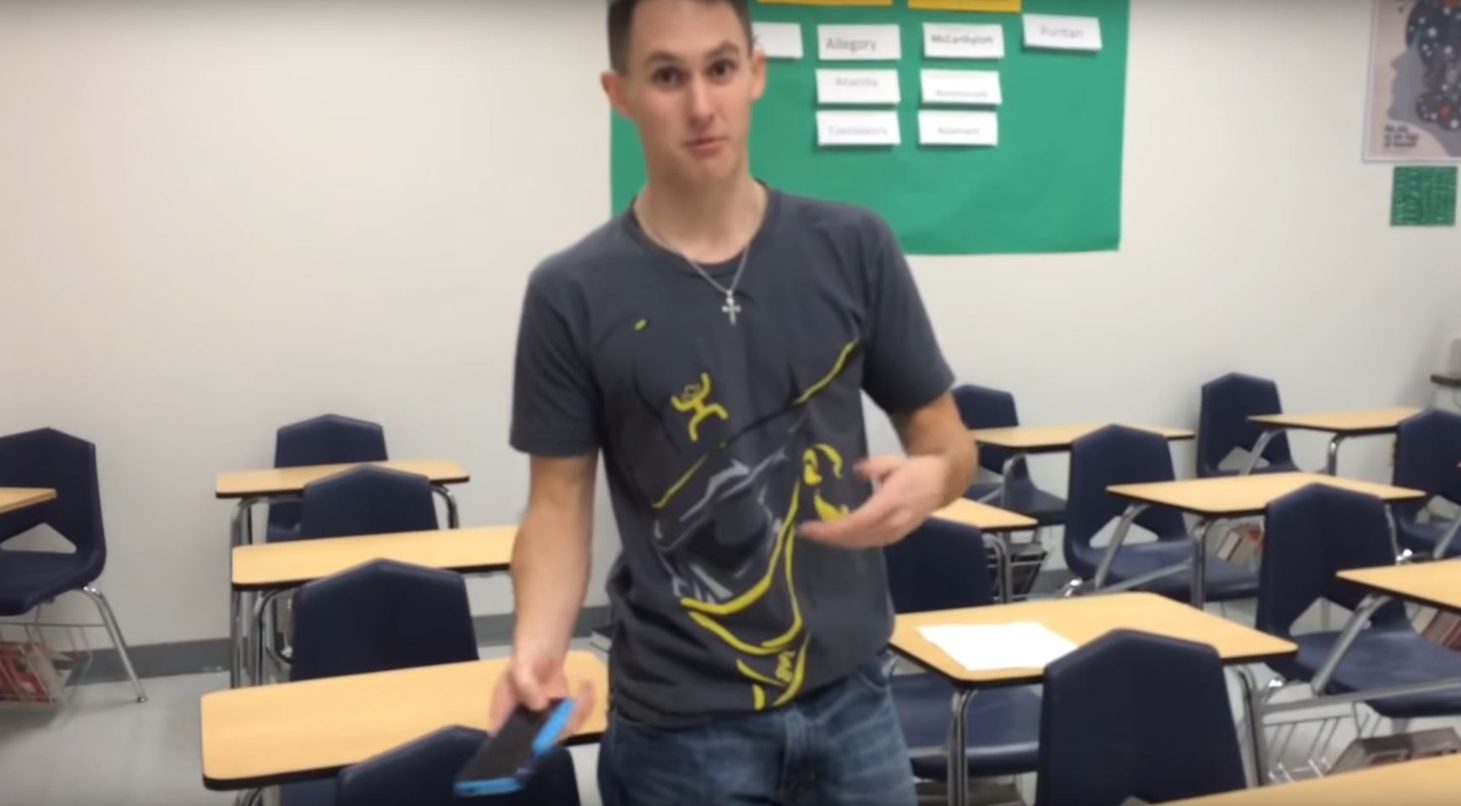non-cheating: (476, 700, 566, 791)
